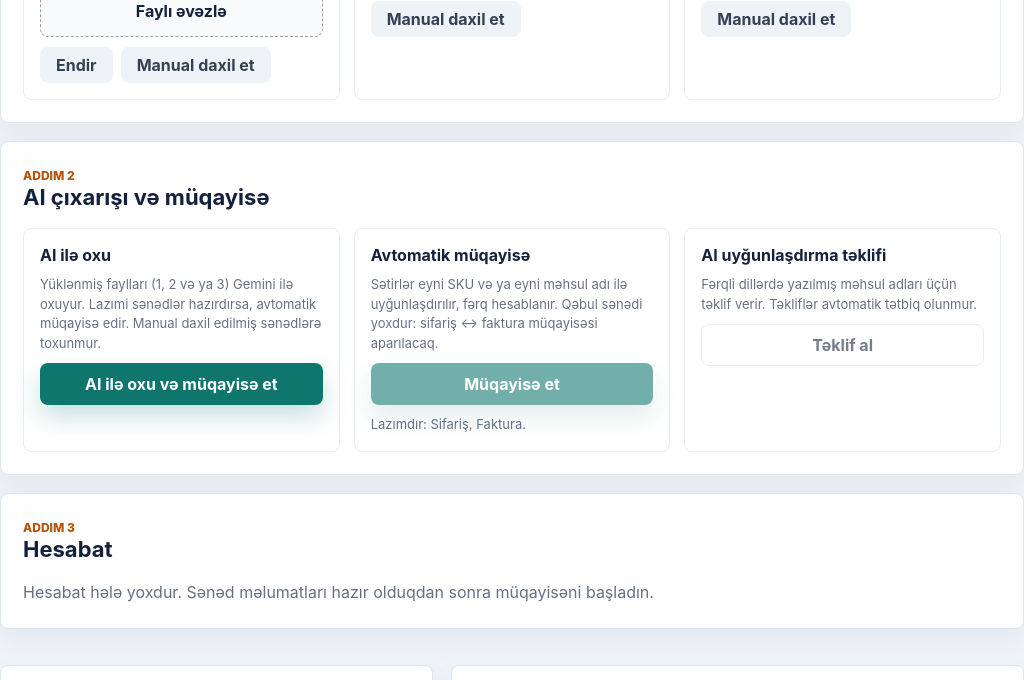
Test: AI oxuma və avtomatik müqayisə › tək fayl oxunanda müqayisə etmir və çatışmayan sənədi deyir
(page scrolled)
Click the button "AI ilə oxu və müqayisə et".
click(181, 384)  # box [40,363,323,405]
(page scrolled)
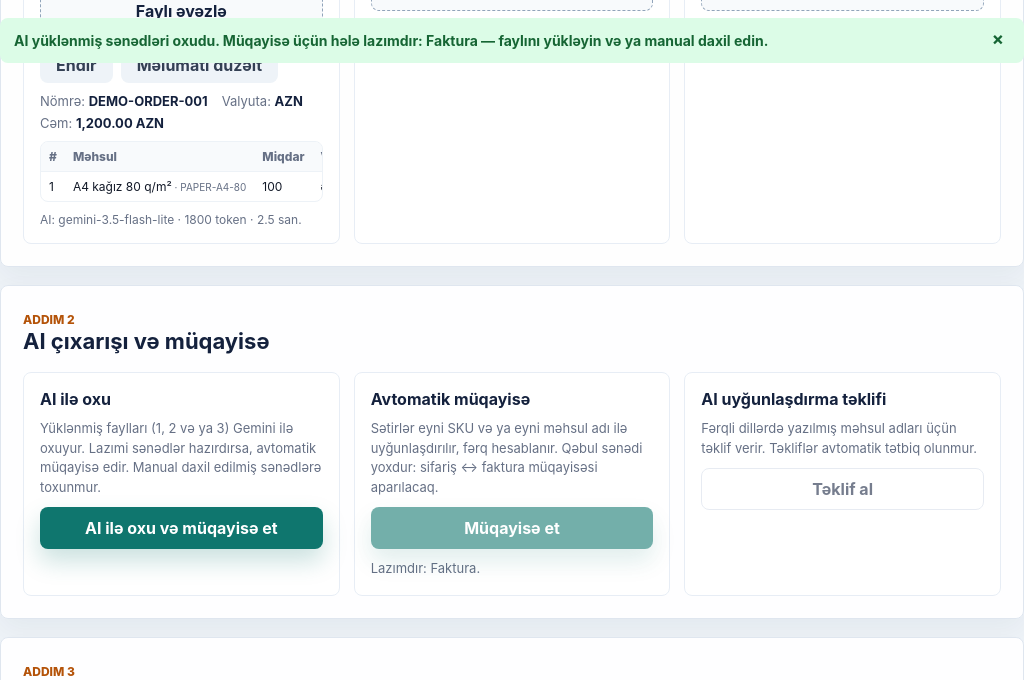
Expected: the message with class "notice" is shown, [0,18,1023,63]
Expected: the message with class "notice" shows "Müqayisə üçün hələ lazımdır: Faktura", [14,32,768,49]
